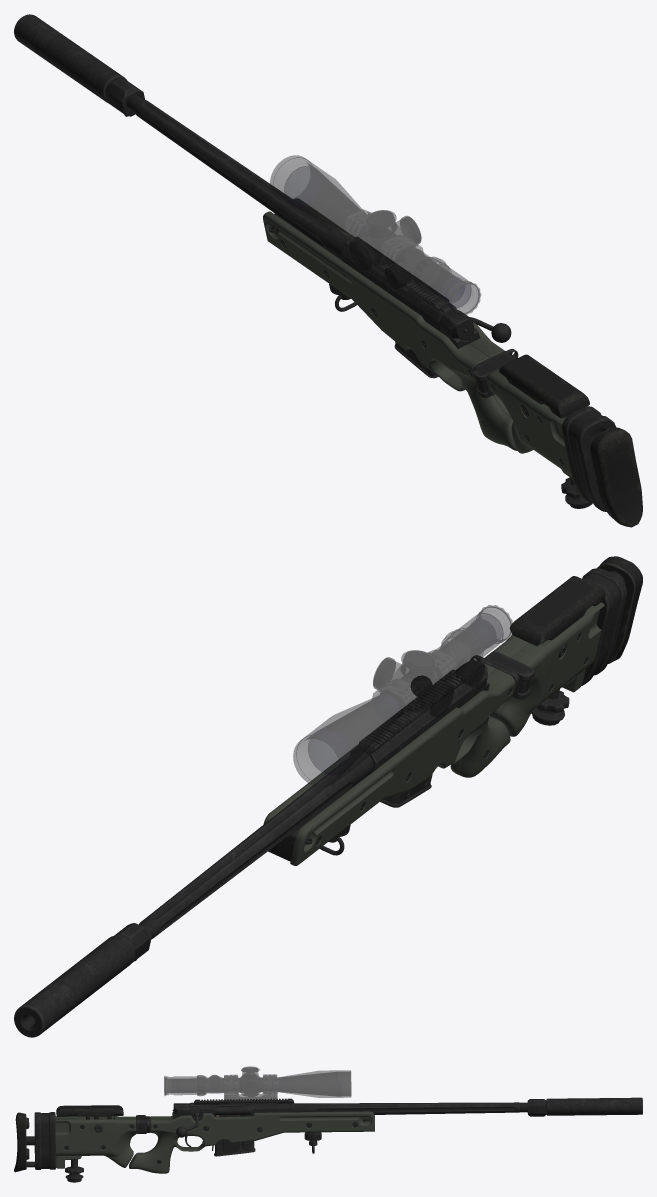
3 renders of one model, top to bottom at view 1: azimuth 30°, elevation 25°; view 2: azimuth 150°, elevation 25°; view 3: azimuth 270°, elevation 25°, orthographic. The views are drawn at different scales.
Visible parts, largest first — view 1: Cube.001, Scope _Scope+Bar_0; view 2: Cube.001, Scope _Scope+Bar_0; view 3: Cube.001, Scope _Scope+Bar_0.
Boxes of the visible parts, x1,y1,x2,y2 form: Cube.001: (14,14,642,527); Scope _Scope+Bar_0: (270,155,480,315); Cube.001: (14,556,642,1037); Scope _Scope+Bar_0: (293,605,513,787); Cube.001: (14,1097,642,1182); Scope _Scope+Bar_0: (164,1066,351,1103).
Size of the model in its own units: 0.4721 by 0.8871 by 4.88.
2 materials, 2 textured.
